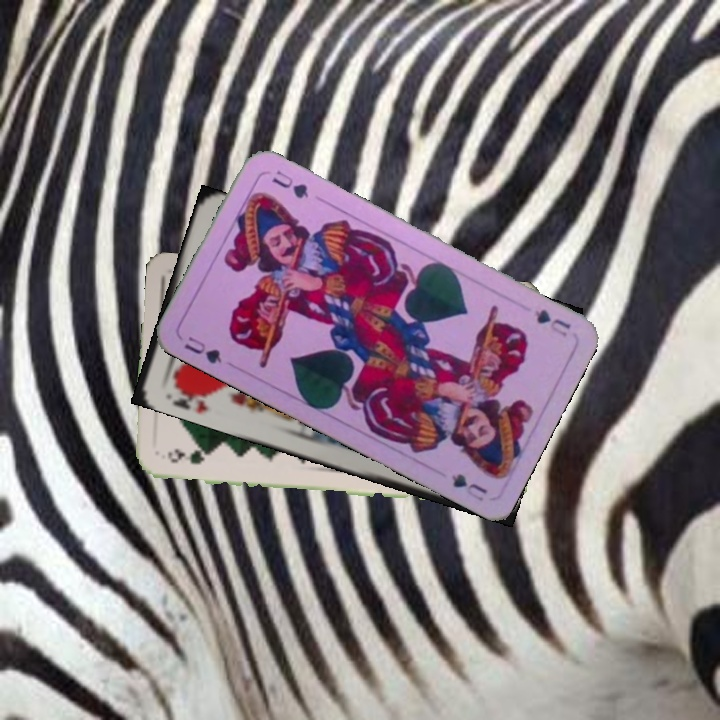G9: (164, 446, 213, 467)
GU: (180, 332, 225, 367), (530, 305, 574, 340)
HK: (168, 379, 214, 416)
